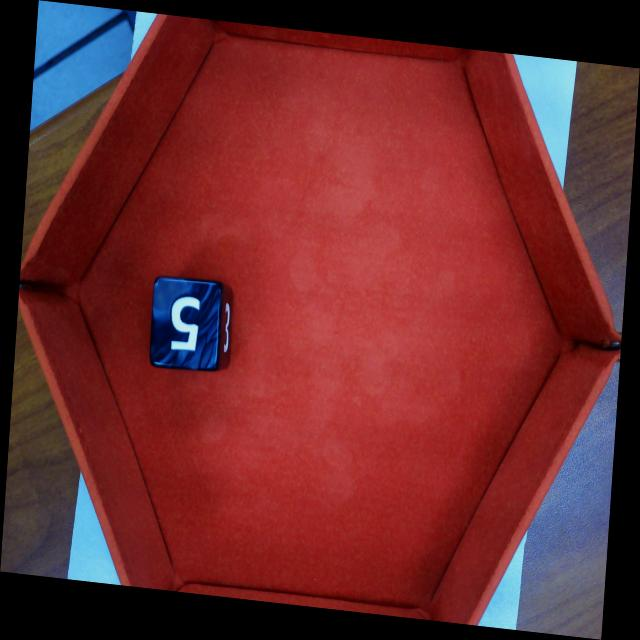dice: (152, 278, 222, 369)
